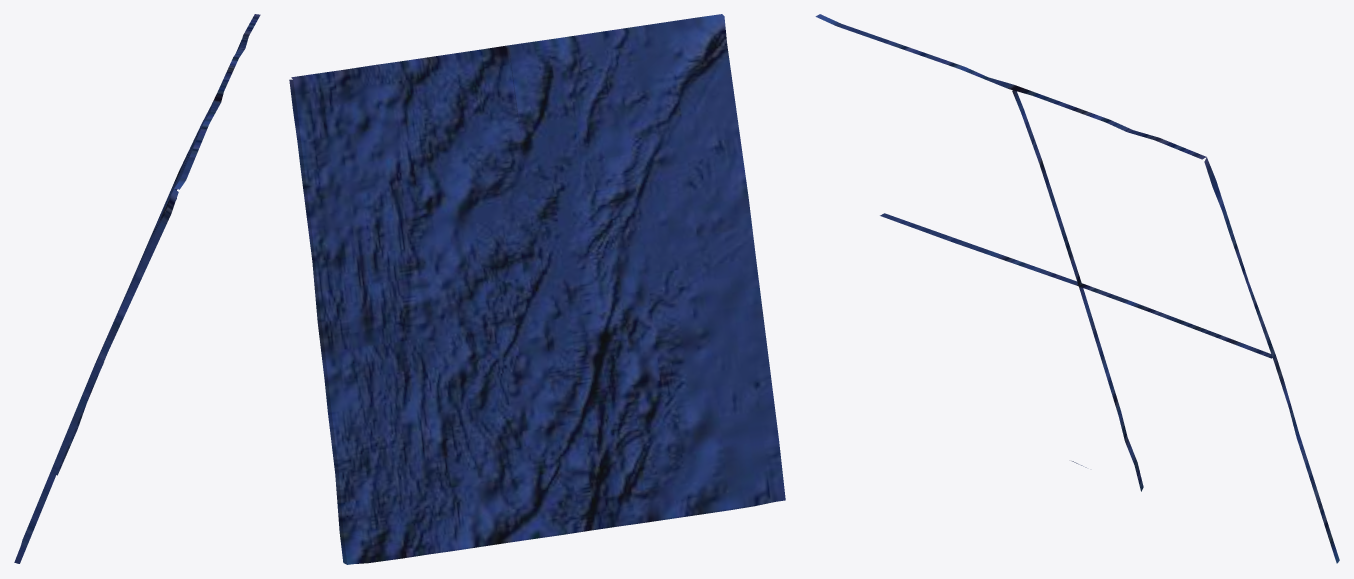
3 renders of one model, left to right at view 1: azimuth 30°, elevation 25°; view 2: azimuth 150°, elevation 25°; view 3: azimuth 270°, elevation 25°, orthographic. The views are drawn at different scales.
Bounding box in the file's own units: 280533 × 295248 × 298317.
Materials: 1 (1 with a texture image).
